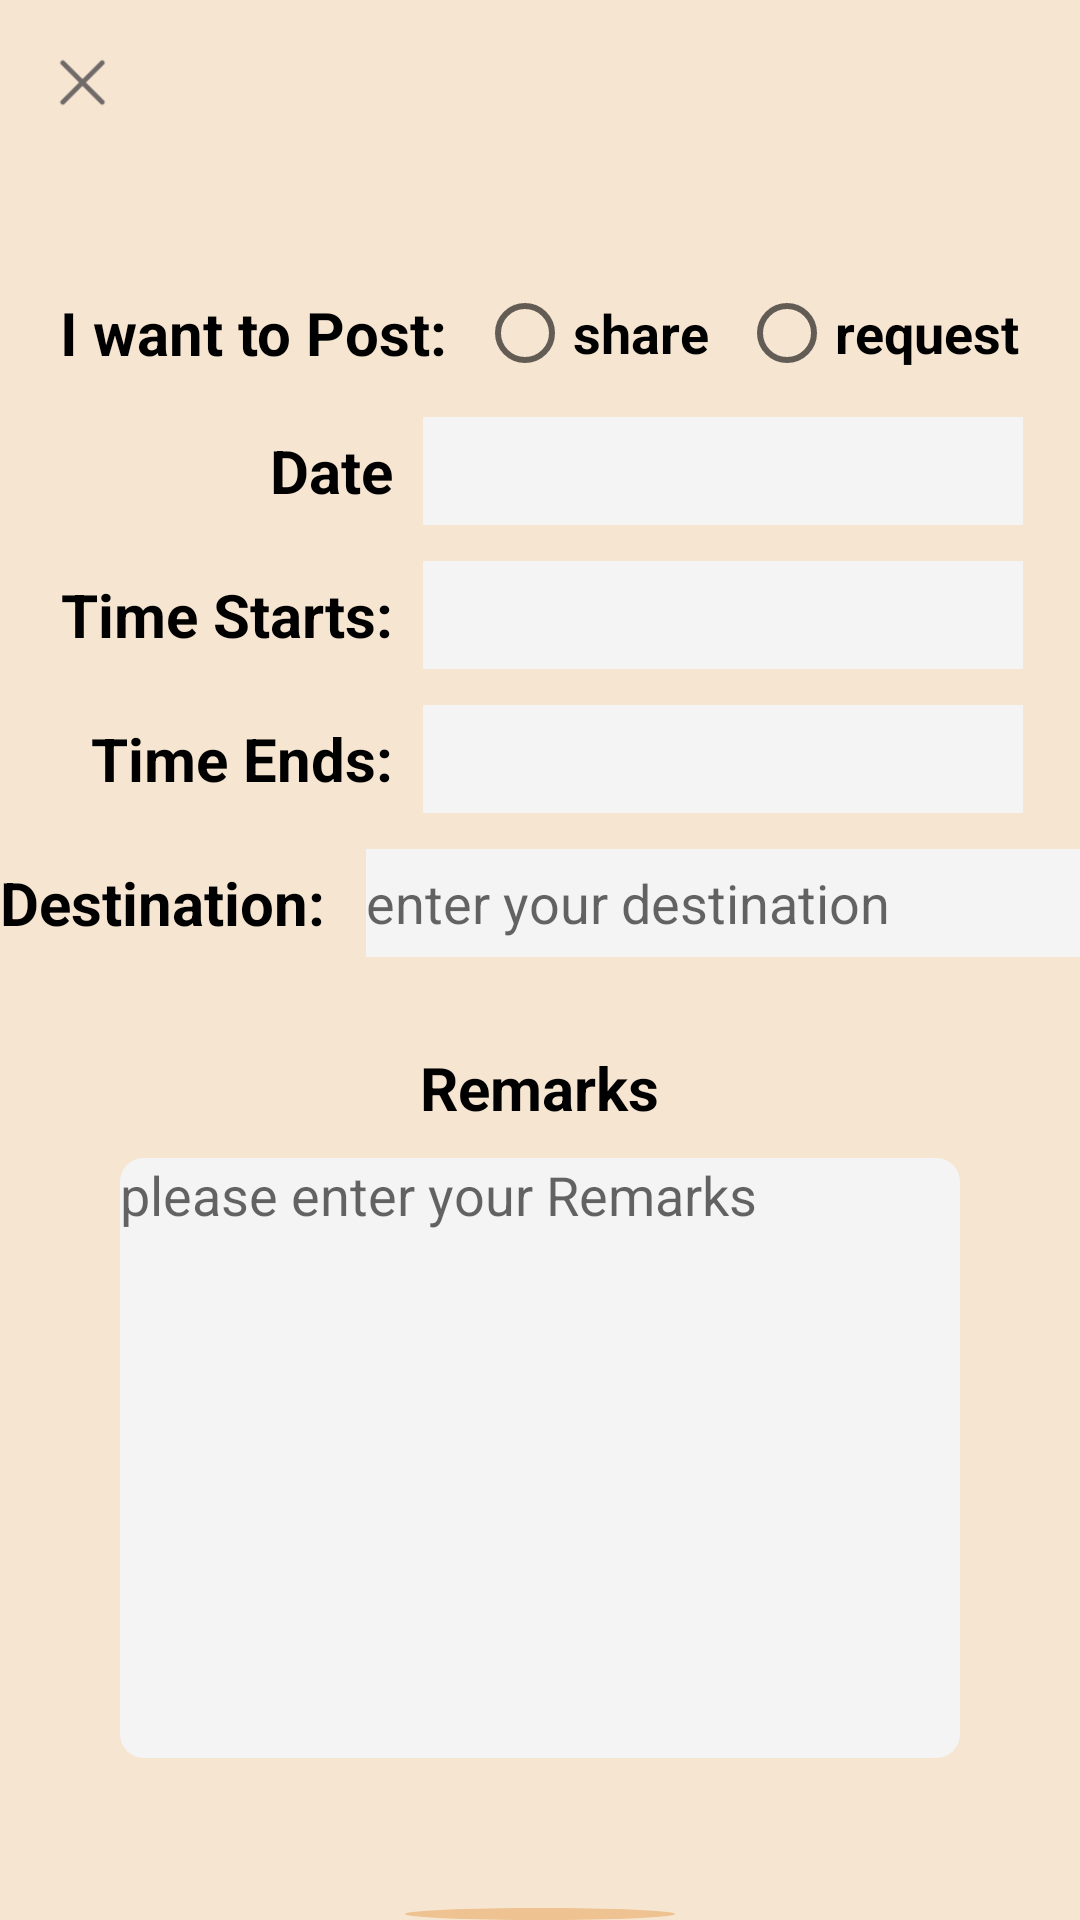

Locate icon controls on the screen. Image size 1080×1920, boxes as [x1,y1,x2,y2].
dismiss: [60,60,105,105]
